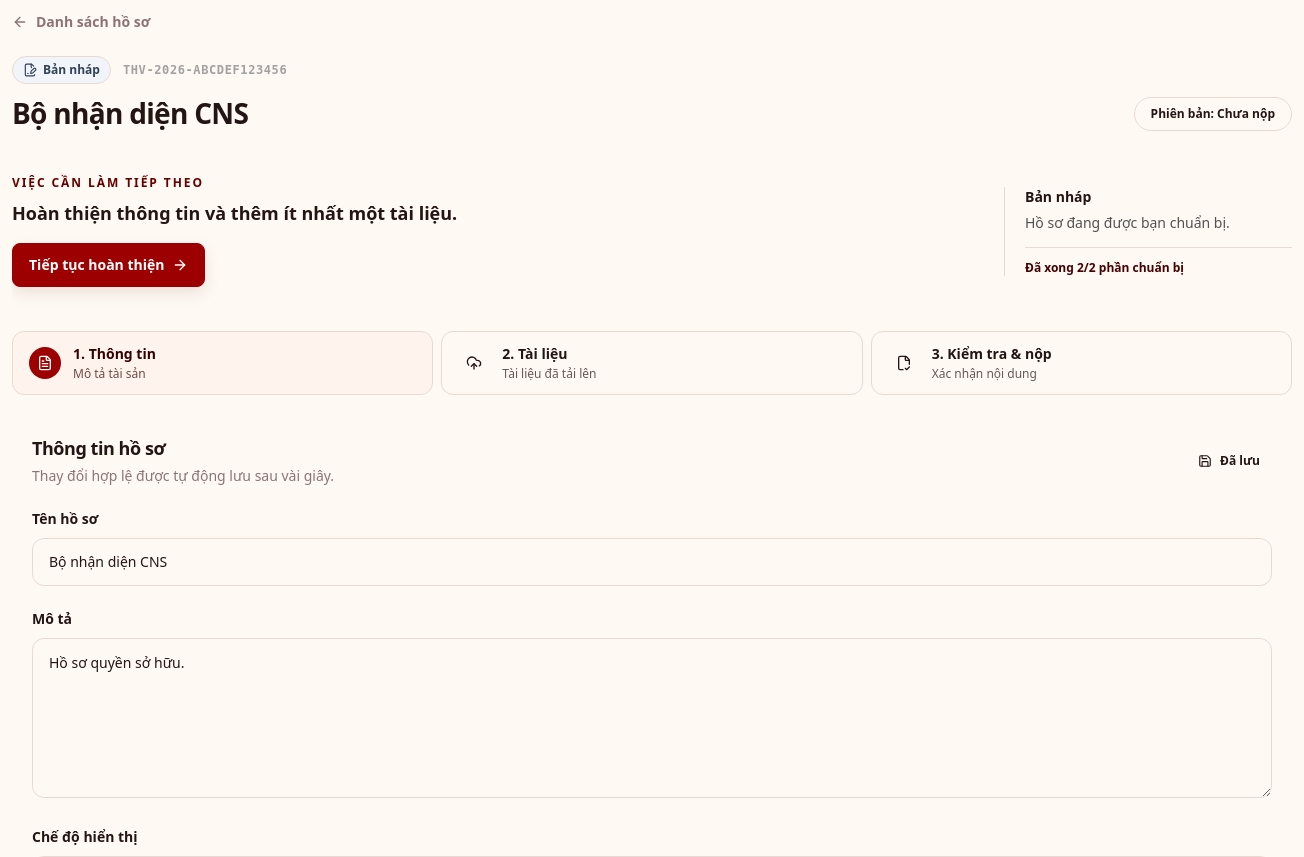
DossierWorkspace › keeps newer edits made while an earlier autosave is pending
The width and height of the screenshot is (1304, 857).
Replace the text in the field labelled "Tên hồ sơ" with "Tên ban đầu": (652, 562) [32,538,1272,586]
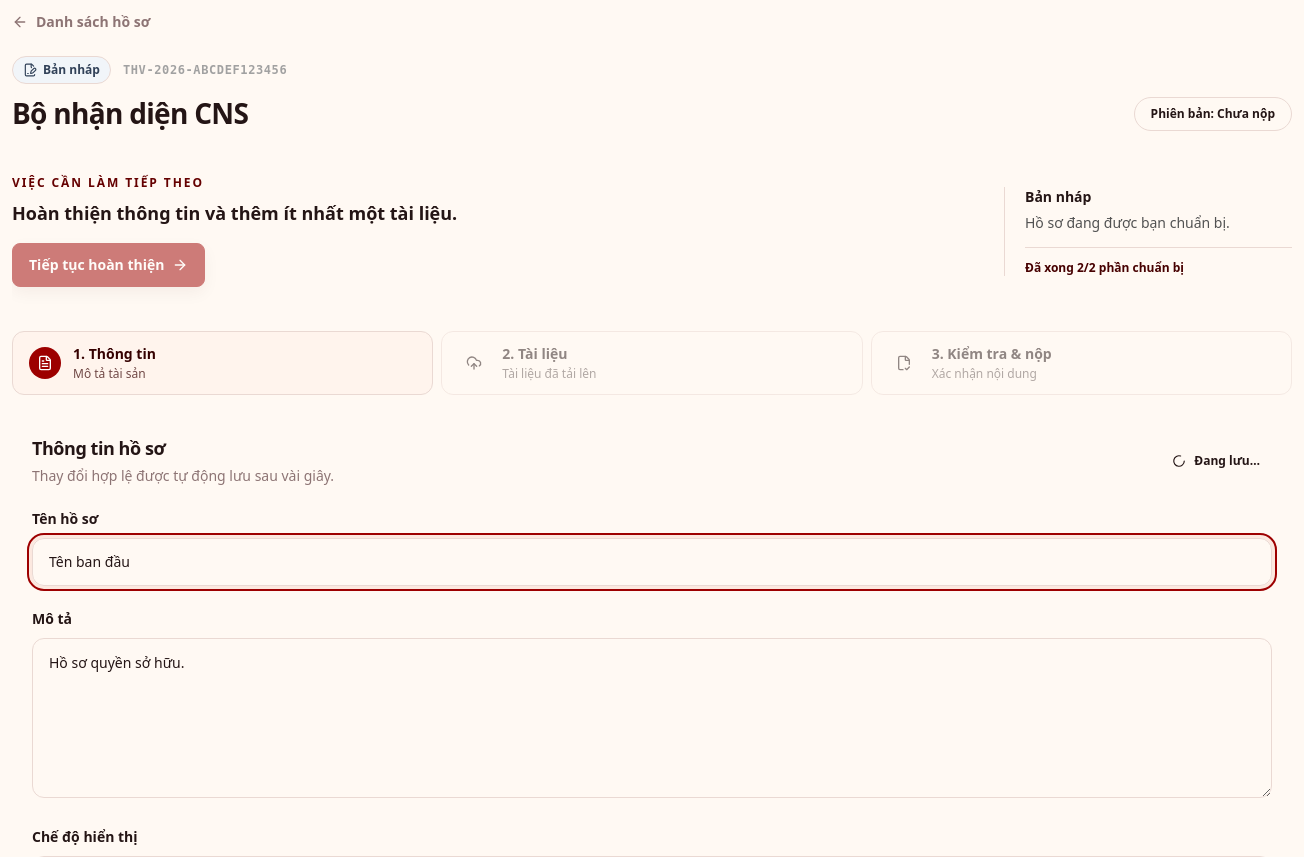
In the field labelled "Tên hồ sơ": (652, 562) [32,538,1272,586], type " tiếp theo"
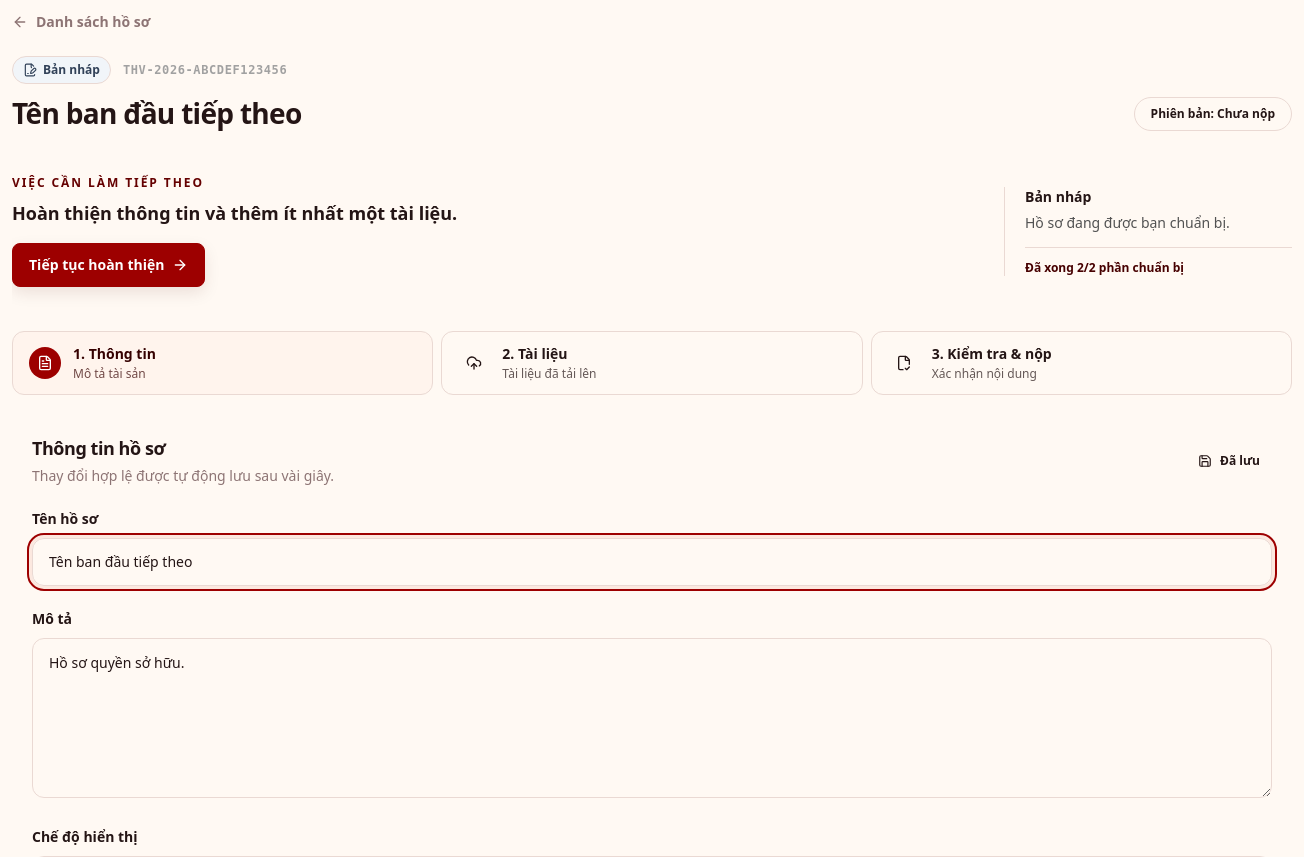
Now the field labelled "Tên hồ sơ" holds "Tên ban đầu tiếp theo", box [32,538,1272,586]
